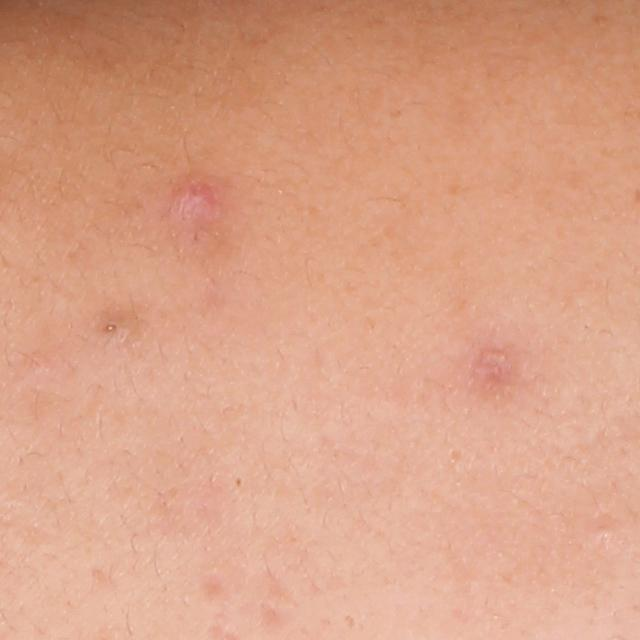atrophic_scar: (260, 601, 296, 631), (199, 576, 229, 599)
comedo: (595, 518, 624, 543), (97, 316, 128, 338), (230, 471, 250, 493)
papule: (166, 177, 225, 228)
